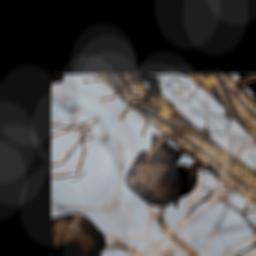Crow: (103, 125, 223, 221)
